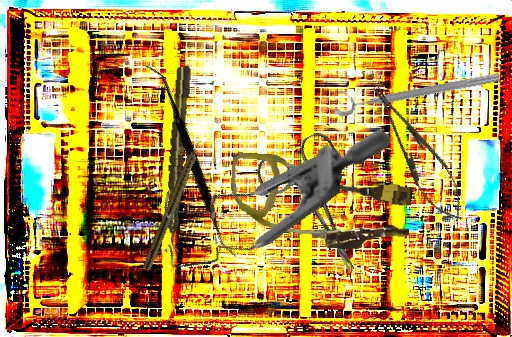Cannula: (227, 151, 414, 254)
Fixation Ring: (330, 59, 502, 118)
Handpiece: (141, 138, 206, 272), (162, 63, 193, 254)
Iris Scissors: (251, 128, 386, 290)
Needle Holder: (360, 75, 476, 231)
Spatula Surgical: (86, 63, 297, 259)
Speculum: (134, 50, 394, 330)
